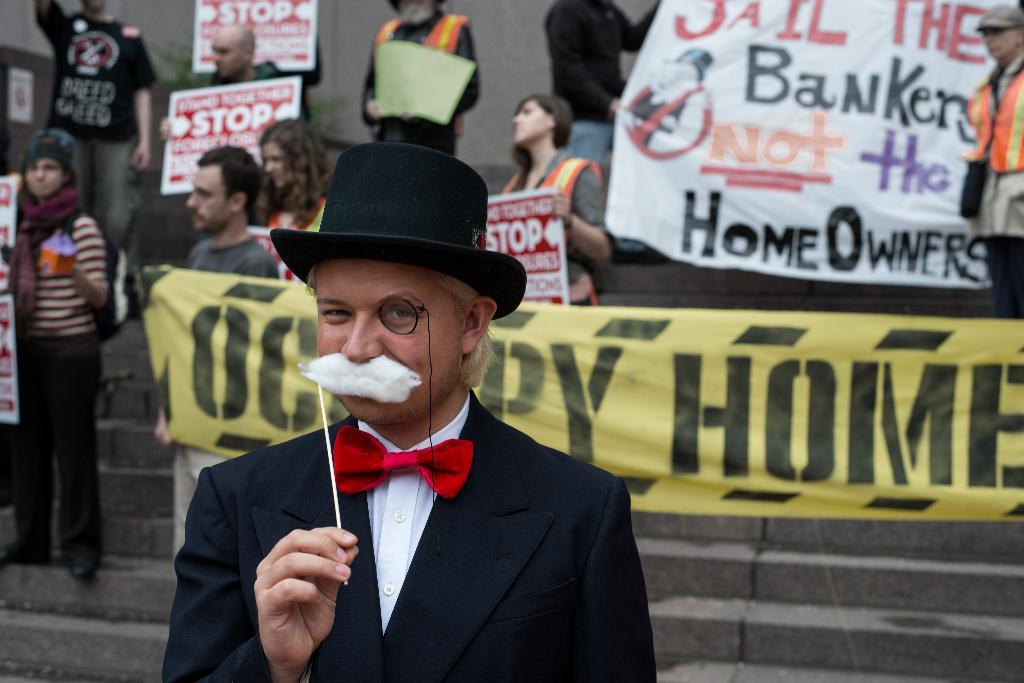Hat: (267, 142, 528, 322), (976, 2, 1022, 27)
